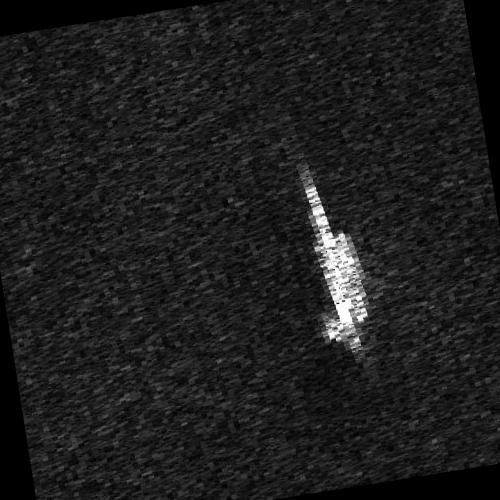ship: (301, 172, 369, 354)
